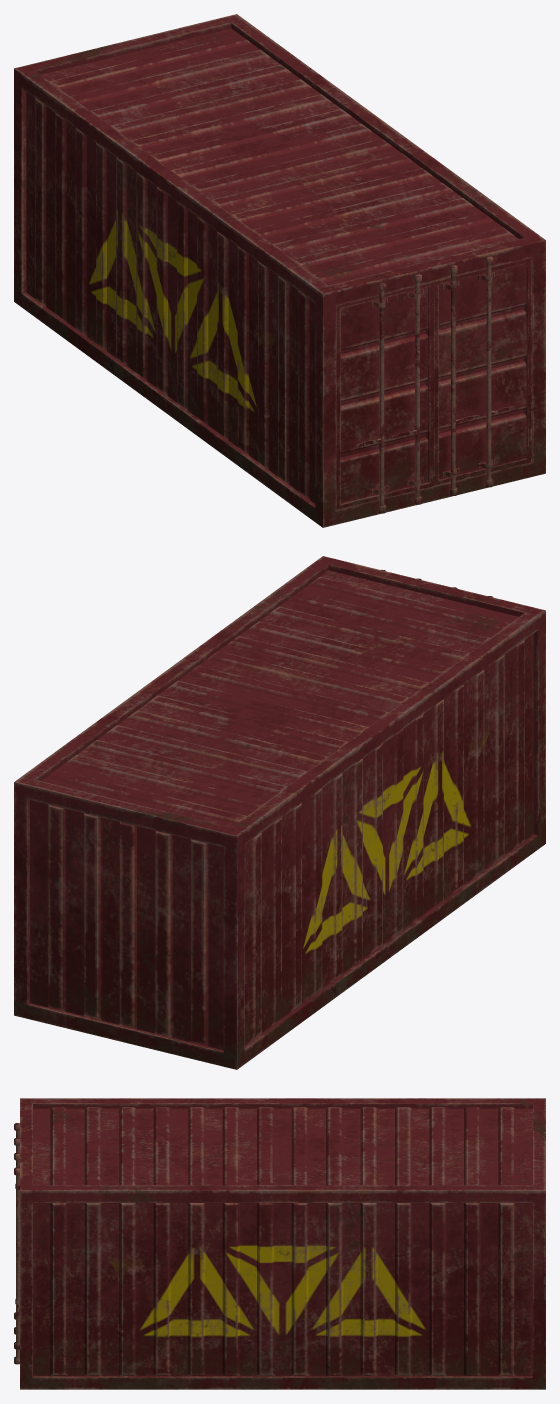
3 views of the same model, one above another, from view 1: azimuth 30°, elevation 25°; view 2: azimuth 150°, elevation 25°; view 3: azimuth 270°, elevation 25° (orthographic). The views are drawn at different scales.
Visible parts, largest first — view 1: Shipping_container; view 2: Shipping_container; view 3: Shipping_container.
Boxes of the visible parts, x1,y1,x2,y2 form: Shipping_container: (14,14,545,527); Shipping_container: (14,556,545,1069); Shipping_container: (14,1098,545,1389).
Size of the model in its own units: 250 by 250 by 607.
Materials: 1 (1 with a texture image).
